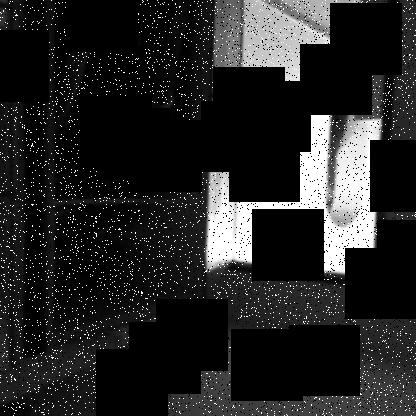Porte: (187, 1, 401, 293)
